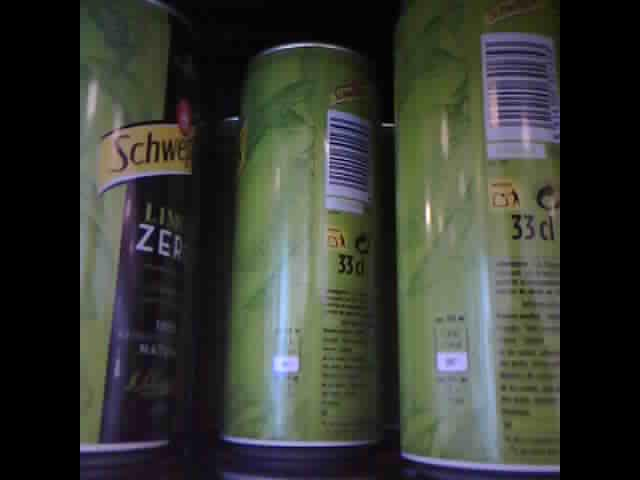schweppes: (389, 2, 560, 478), (213, 31, 381, 451), (79, 2, 221, 454)
